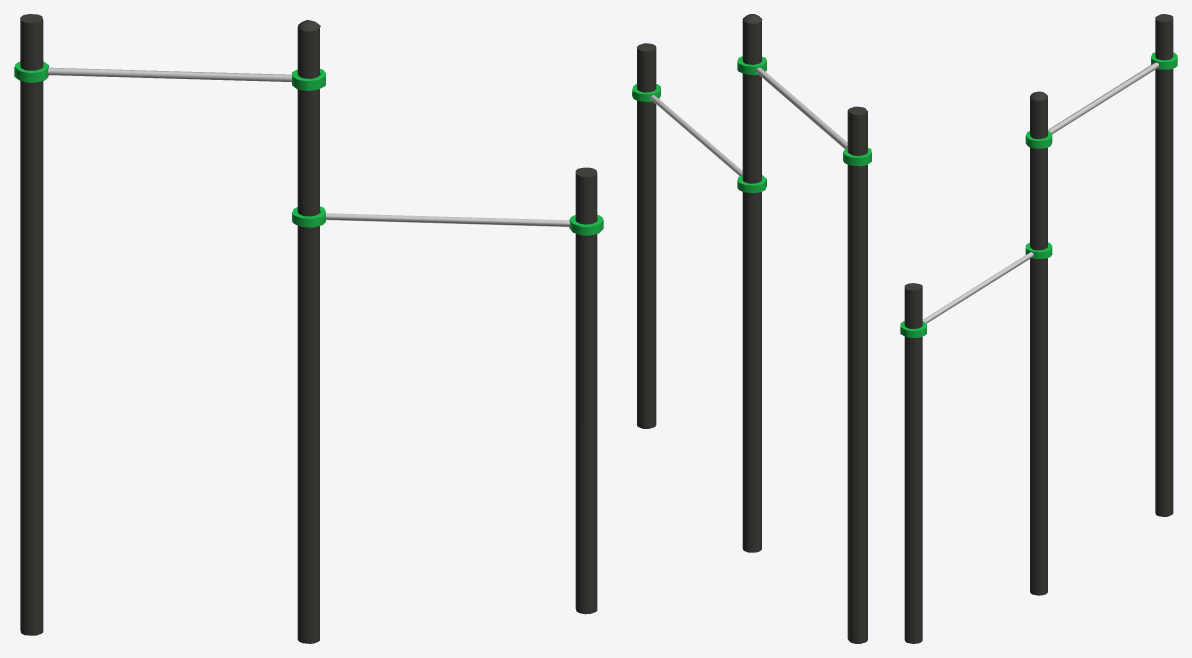
Rendered from турник2.glb.
3 views of the same model, side by side, from view 1: azimuth 30°, elevation 25°; view 2: azimuth 150°, elevation 25°; view 3: azimuth 270°, elevation 25° (orthographic). The views are drawn at different scales.
Parts seen in each view (by area): view 1: SM_Aviomotornaya_ZU_5_Flora.001; view 2: SM_Aviomotornaya_ZU_5_Flora.001; view 3: SM_Aviomotornaya_ZU_5_Flora.001.
Part boxes in pixels (box(x1,y1,x2,y2)): SM_Aviomotornaya_ZU_5_Flora.001: box(14, 14, 603, 643); SM_Aviomotornaya_ZU_5_Flora.001: box(632, 14, 871, 643); SM_Aviomotornaya_ZU_5_Flora.001: box(900, 14, 1177, 643).
Size of the model in its own units: 2.32 by 3.21 by 1.62.
1 material, 1 textured.
